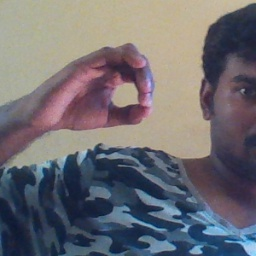O: (42, 39, 159, 131)
